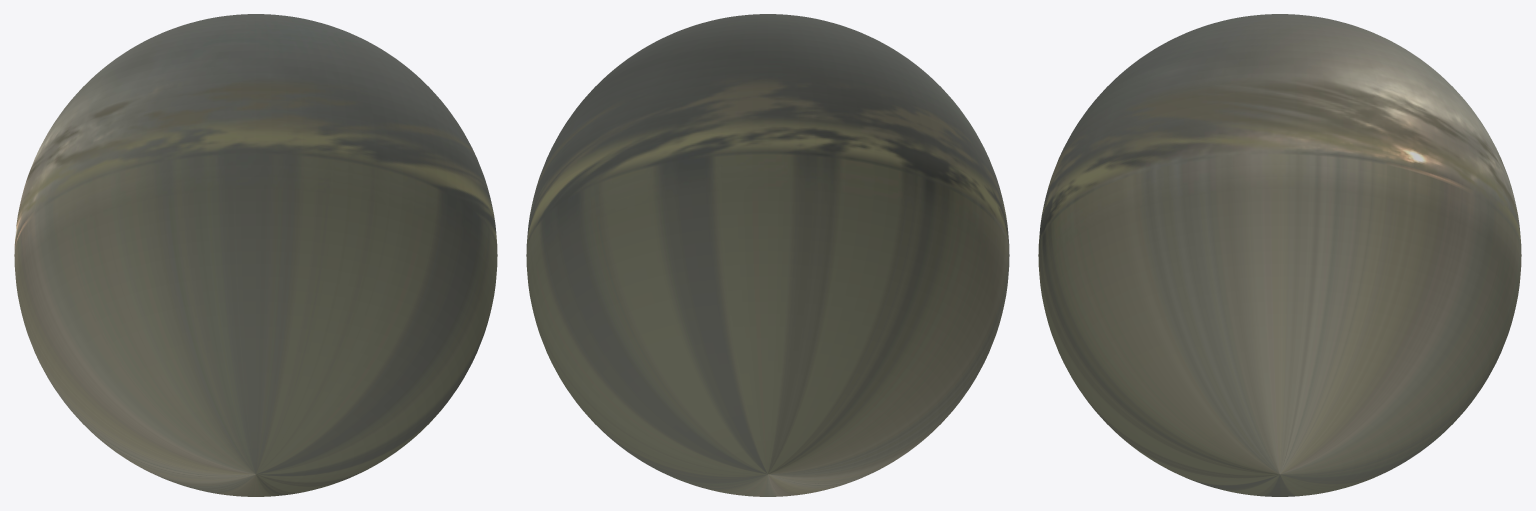
File: sky_dome_v5_dead.glb
3 renders of one model, left to right at view 1: azimuth 30°, elevation 25°; view 2: azimuth 150°, elevation 25°; view 3: azimuth 270°, elevation 25°, orthographic.
Parts seen in each view (by area): view 1: sky_dome_v5_dead; view 2: sky_dome_v5_dead; view 3: sky_dome_v5_dead.
Part boxes in pixels (left/top/right/bottom): sky_dome_v5_dead: left=14, top=14, right=497, bottom=496; sky_dome_v5_dead: left=526, top=14, right=1009, bottom=496; sky_dome_v5_dead: left=1038, top=14, right=1521, bottom=496.
Bounding box in the file's own units: 7600 × 7600 × 7600.
Materials: 1 (1 with a texture image).
